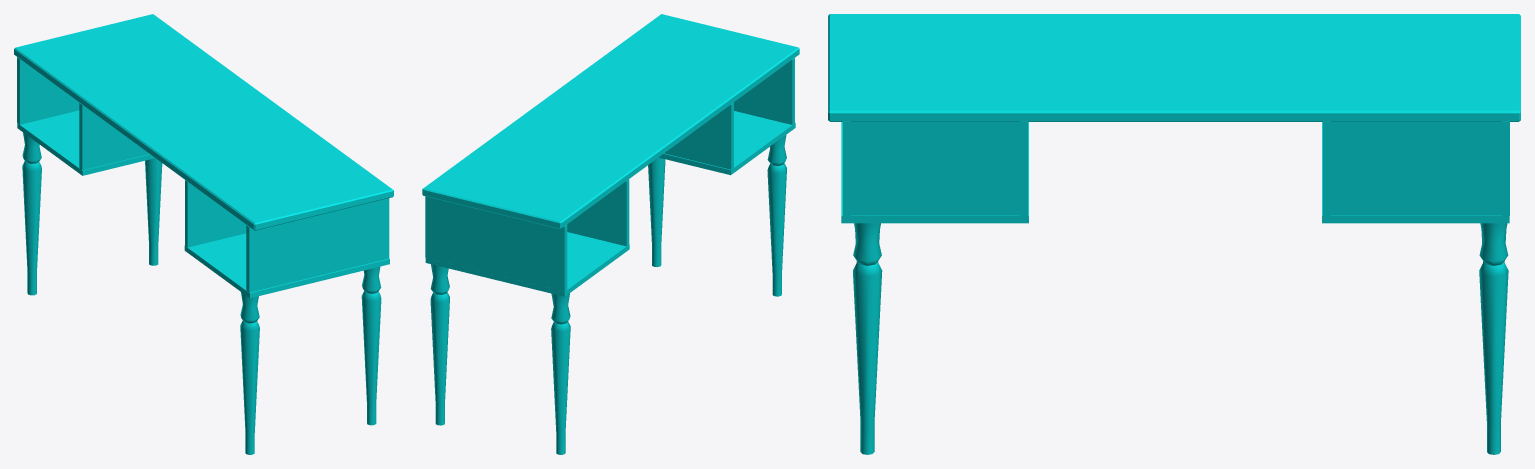
File: Desk_01.fbx
3 views of the same model, side by side, from view 1: azimuth 30°, elevation 25°; view 2: azimuth 150°, elevation 25°; view 3: azimuth 270°, elevation 25° (orthographic). The views are drawn at different scales.
Visible parts, largest first — view 1: Desk_01; view 2: Desk_01; view 3: Desk_01.
Boxes of the visible parts, box(x1,y1,x2,y2) form: Desk_01: box(14, 14, 393, 454); Desk_01: box(422, 14, 799, 454); Desk_01: box(828, 14, 1520, 454).
Bounding box in the file's own units: 55.01 × 90.52 × 164.
